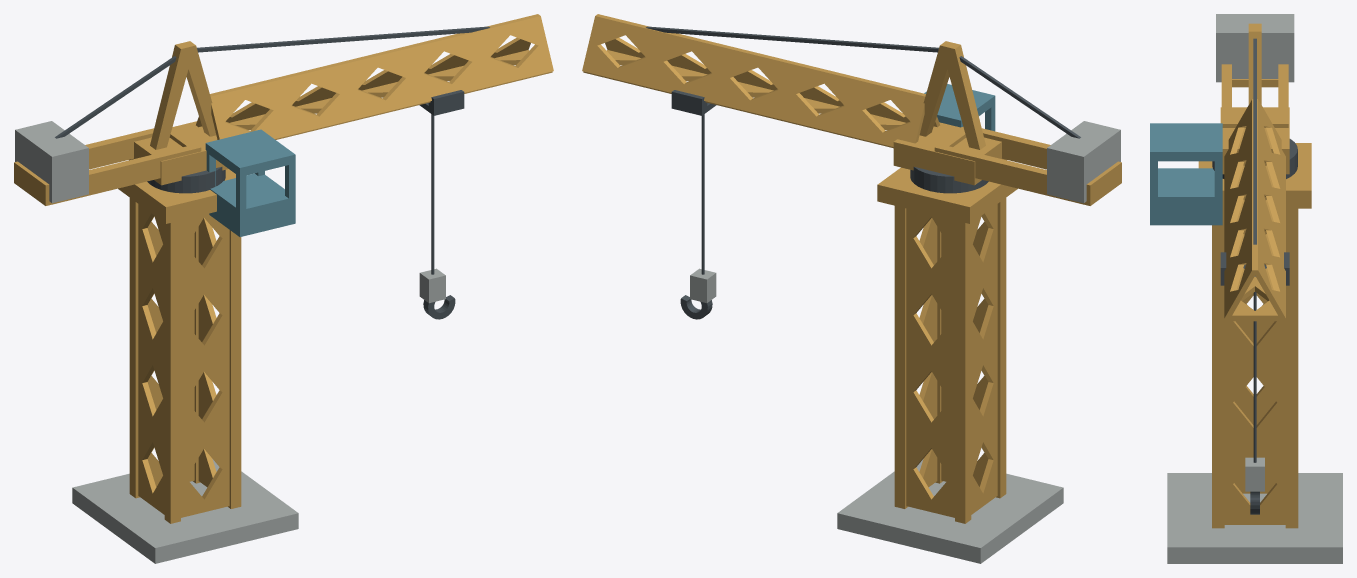
3 views of the same model, side by side, from view 1: azimuth 30°, elevation 25°; view 2: azimuth 150°, elevation 25°; view 3: azimuth 270°, elevation 25° (orthographic). The views are drawn at different scales.
Visible parts, largest first — view 1: NearWholeMainJibLatticeSide, FrontWholeTowerDiamondWeb, WholeBroadTowerFoot, WholeOpenWindowSideCab, LeftWholeTowerDiamondWeb, WholeTowerCornerPost00, WholeShortCounterJibFrame, WholeCounterweightExterior, WholeTowerCornerPost10, FarWholeMainJibLatticeSide, WholeOpenAFrameTowerHead, WholeTowerCornerPost01 (+10 smaller); view 2: FarWholeMainJibLatticeSide, BackWholeTowerDiamondWeb, WholeBroadTowerFoot, LeftWholeTowerDiamondWeb, WholeTowerCornerPost01, WholeShortCounterJibFrame, WholeCounterweightExterior, WholeTowerCornerPost11, WholeTowerUpperPlatform, WholeOpenAFrameTowerHead, WholeUpperHeadCrossBody, WholeTowerCornerPost00 (+10 smaller); view 3: WholeBroadTowerFoot, RightWholeTowerDiamondWeb, WholeOpenWindowSideCab, FarWholeMainJibLatticeSide, NearWholeMainJibLatticeSide, WholeTowerCornerPost11, WholeCounterweightExterior, WholeTowerCornerPost10, WholeShortCounterJibFrame, LeftWholeTowerDiamondWeb, WholeTowerUpperPlatform, WholeMainJibLowerLattice (+7 smaller).
Boxes of the visible parts, x1,y1,x2,y2 form: NearWholeMainJibLatticeSide: [211, 16, 553, 139]; FrontWholeTowerDiamondWeb: [181, 213, 229, 517]; WholeBroadTowerFoot: [72, 459, 298, 563]; WholeOpenWindowSideCab: [205, 129, 295, 236]; LeftWholeTowerDiamondWeb: [138, 204, 164, 514]; WholeTowerCornerPost00: [164, 220, 180, 523]; WholeShortCounterJibFrame: [14, 127, 201, 205]; WholeCounterweightExterior: [15, 121, 88, 203]; WholeTowerCornerPost10: [228, 230, 241, 508]; FarWholeMainJibLatticeSide: [196, 14, 540, 127]; WholeOpenAFrameTowerHead: [150, 41, 216, 149]; WholeTowerCornerPost01: [129, 198, 139, 498]; FarWholeMainJibLatticeSide: [582, 14, 925, 146]; BackWholeTowerDiamondWeb: [906, 208, 954, 517]; WholeBroadTowerFoot: [837, 459, 1063, 563]; LeftWholeTowerDiamondWeb: [971, 204, 997, 514]; WholeTowerCornerPost01: [955, 220, 971, 523]; WholeShortCounterJibFrame: [934, 127, 1121, 205]; WholeCounterweightExterior: [1047, 121, 1120, 203]; WholeTowerCornerPost11: [894, 206, 907, 508]; WholeTowerUpperPlatform: [877, 167, 1017, 223]; WholeOpenAFrameTowerHead: [919, 41, 985, 149]; WholeUpperHeadCrossBody: [893, 122, 1006, 185]; WholeTowerCornerPost00: [996, 198, 1006, 498]; WholeBroadTowerFoot: [1167, 473, 1342, 563]; RightWholeTowerDiamondWeb: [1224, 293, 1285, 524]; WholeOpenWindowSideCab: [1150, 123, 1222, 225]; FarWholeMainJibLatticeSide: [1252, 99, 1285, 318]; NearWholeMainJibLatticeSide: [1224, 100, 1257, 318]; WholeTowerCornerPost11: [1285, 208, 1298, 528]; WholeCounterweightExterior: [1216, 14, 1294, 82]; WholeTowerCornerPost10: [1212, 208, 1224, 528]; WholeShortCounterJibFrame: [1221, 64, 1288, 127]; LeftWholeTowerDiamondWeb: [1234, 230, 1275, 493]; WholeTowerUpperPlatform: [1198, 143, 1311, 208]; WholeMainJibLowerLattice: [1227, 161, 1282, 321].
Size of the model in its own units: 5.4 by 4.77 by 1.67.
